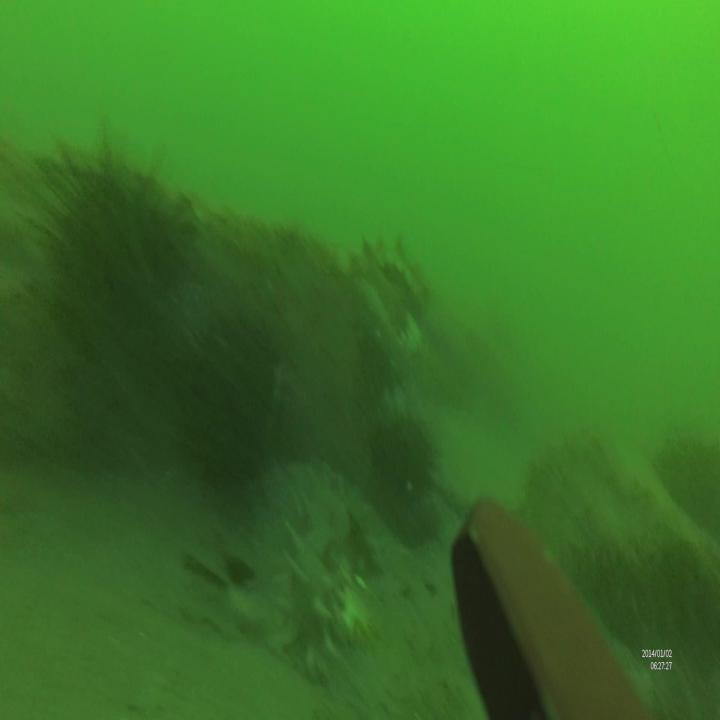echinus: (371, 415, 441, 506)
holothurian: (278, 507, 384, 679), (360, 226, 440, 316)
